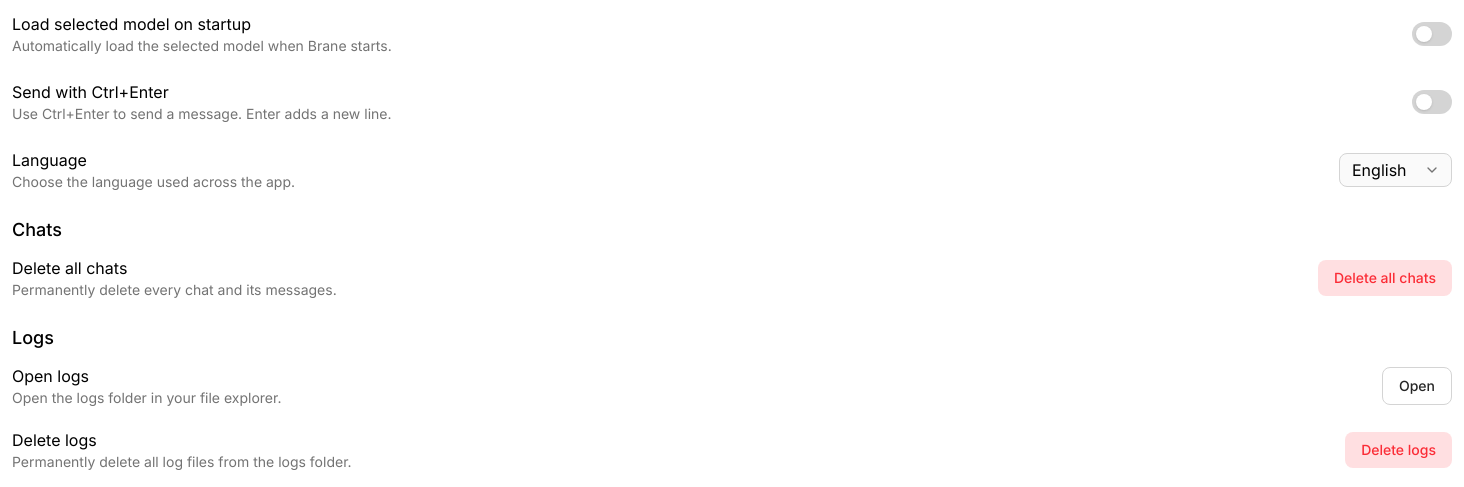
it: GeneralSettings logs › surfaces a folder that cannot be opened
Click the button "Open". click: (1417, 386)
box: [1382, 367, 1452, 405]
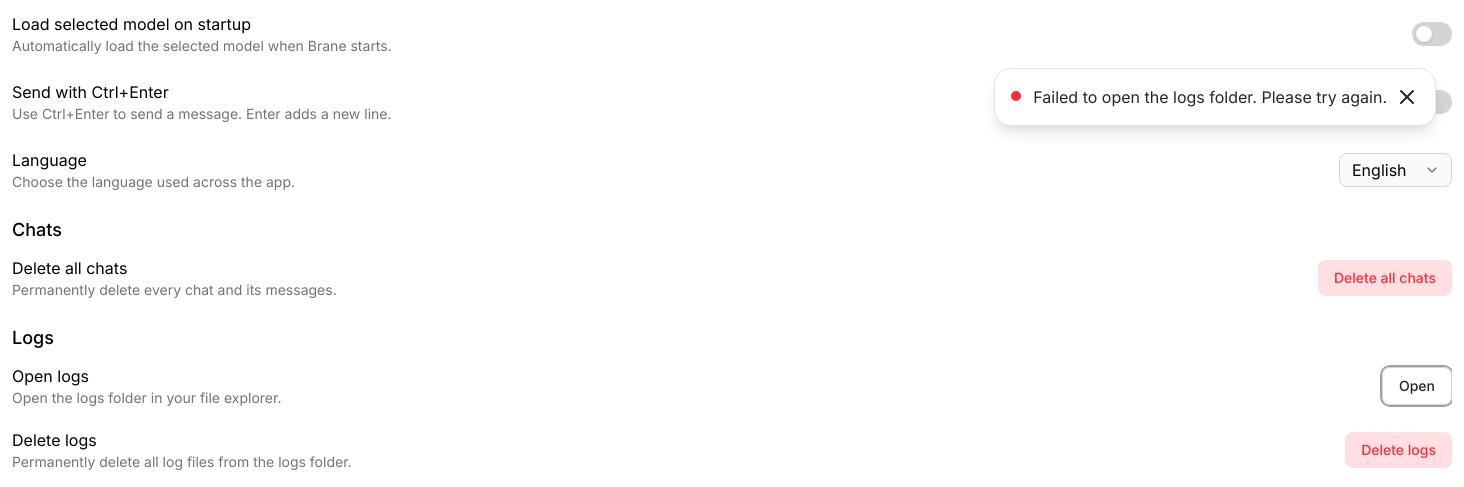
Result: the message reads "Failed to open the logs folder. Please try again." at [1033, 87, 1387, 107]
